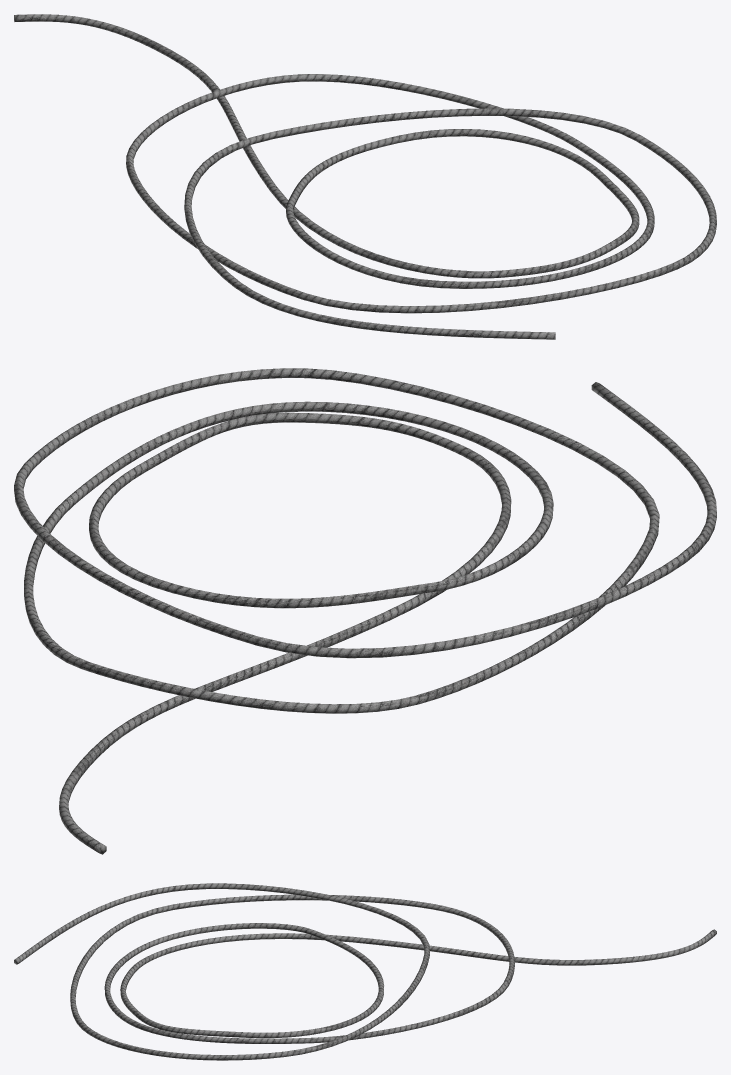
Rendered from SM_RopeCatle01.FBX.
3 renders of one model, top to bottom at view 1: azimuth 30°, elevation 25°; view 2: azimuth 150°, elevation 25°; view 3: azimuth 270°, elevation 25°, orthographic. The views are drawn at different scales.
Parts seen in each view (by area): view 1: SM_RopeCatle01; view 2: SM_RopeCatle01; view 3: SM_RopeCatle01.
Boxes of the visible parts, box(x1,y1,x2,y2) form: SM_RopeCatle01: box(14, 14, 716, 339); SM_RopeCatle01: box(14, 368, 716, 854); SM_RopeCatle01: box(14, 883, 716, 1060).
Bounding box in the file's own units: 246 × 427 × 7.41.
